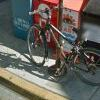Bicycle: (20, 3, 100, 94)
